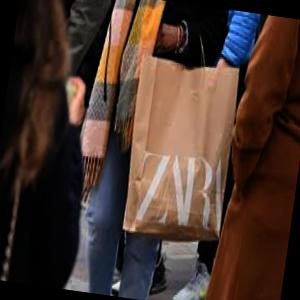zara: (130, 148, 234, 251)
